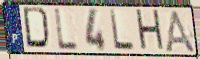4: (84, 7, 108, 53)
A: (163, 8, 198, 54)
D: (22, 6, 54, 52)
H: (134, 8, 167, 53)
L: (53, 7, 81, 51), (108, 9, 136, 52)
